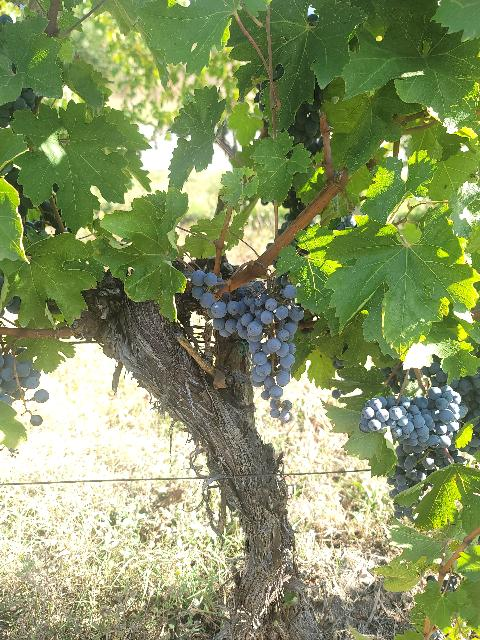grapes: (359, 385, 468, 491), (239, 278, 305, 422), (190, 270, 238, 338)
